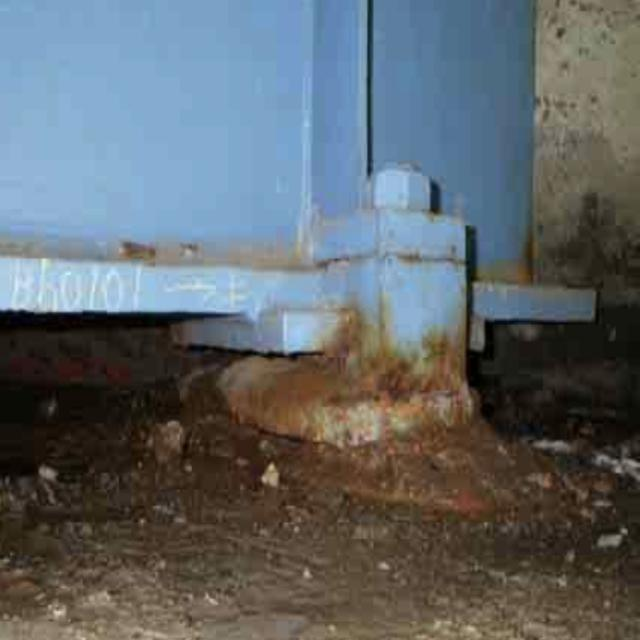corrosion: (258, 304, 563, 527)
